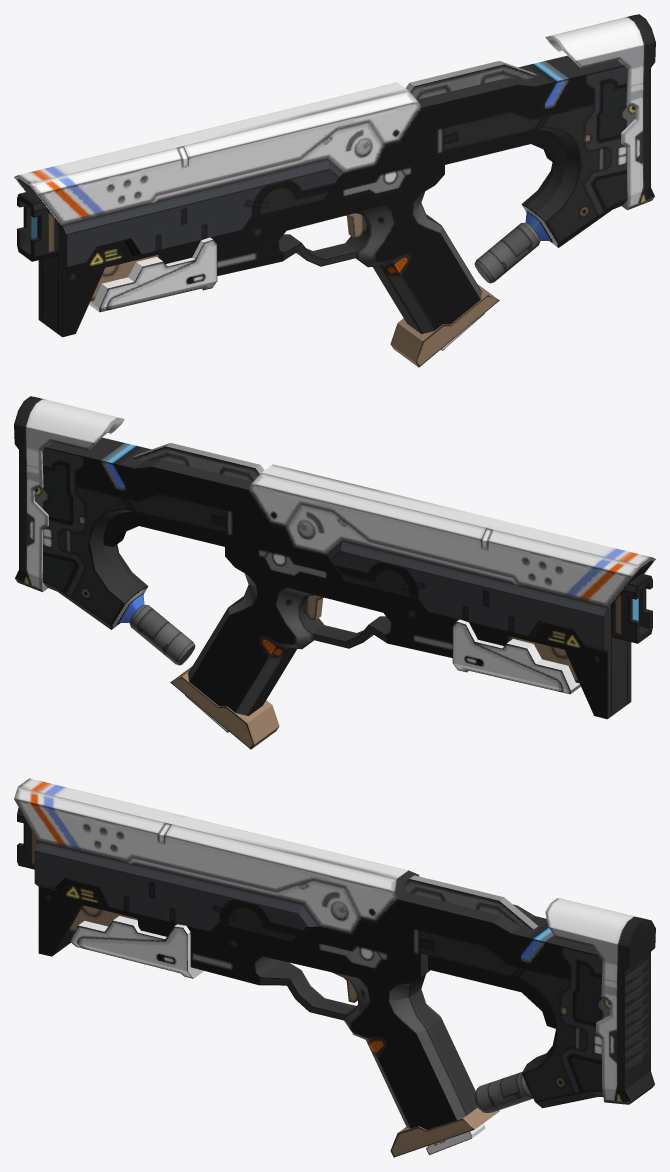
File: hyperreal gun.glb
3 renders of one model, top to bottom at view 1: azimuth 30°, elevation 25°; view 2: azimuth 150°, elevation 25°; view 3: azimuth 330°, elevation 25°, orthographic.
Parts seen in each view (by area): view 1: e2superligunmd020011; view 2: e2superligunmd020011; view 3: e2superligunmd020011.
Boxes of the visible parts, left/top/right/bottom form: e2superligunmd020011: left=14, top=14, right=655, bottom=367; e2superligunmd020011: left=14, top=396, right=655, bottom=749; e2superligunmd020011: left=14, top=778, right=655, bottom=1157.
Size of the model in its own units: 2.38 by 1.04 by 0.2133.
1 material, 1 textured.
